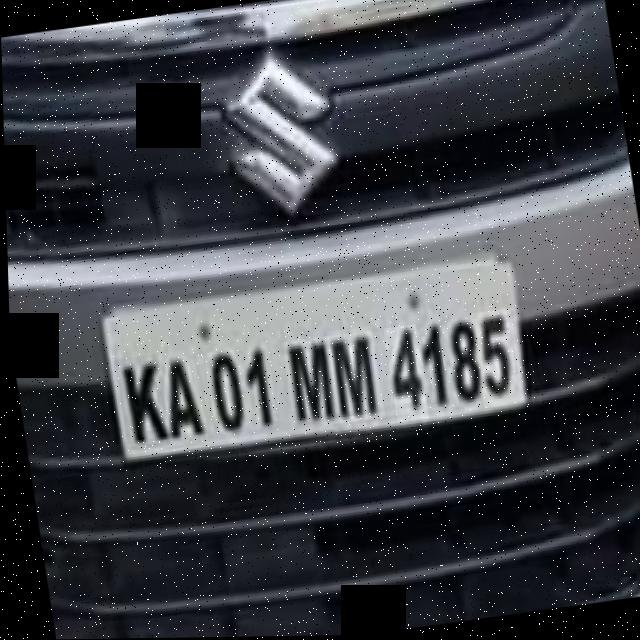0: (201, 343, 249, 434)
1: (236, 341, 277, 438), (414, 321, 452, 409)
4: (381, 325, 426, 423)
5: (467, 309, 522, 409)
8: (443, 316, 486, 408)
A: (154, 349, 203, 445)
K: (112, 354, 169, 450)
M: (278, 333, 338, 432), (324, 327, 383, 424)
